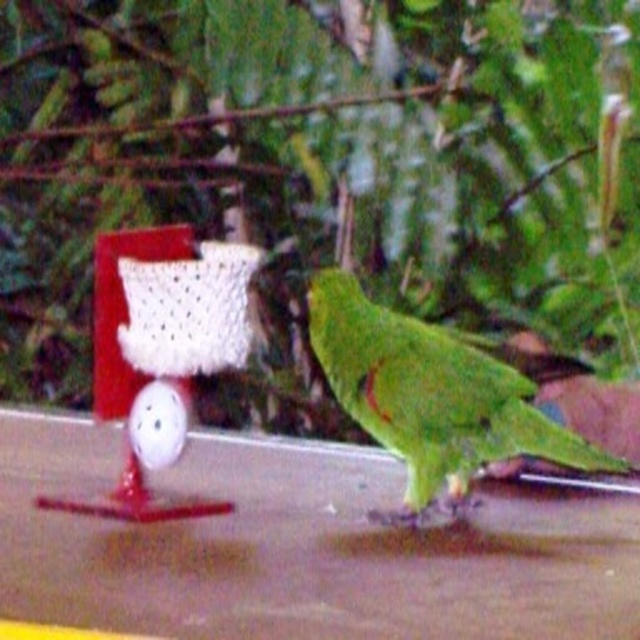Parrot: (287, 268, 628, 530)
